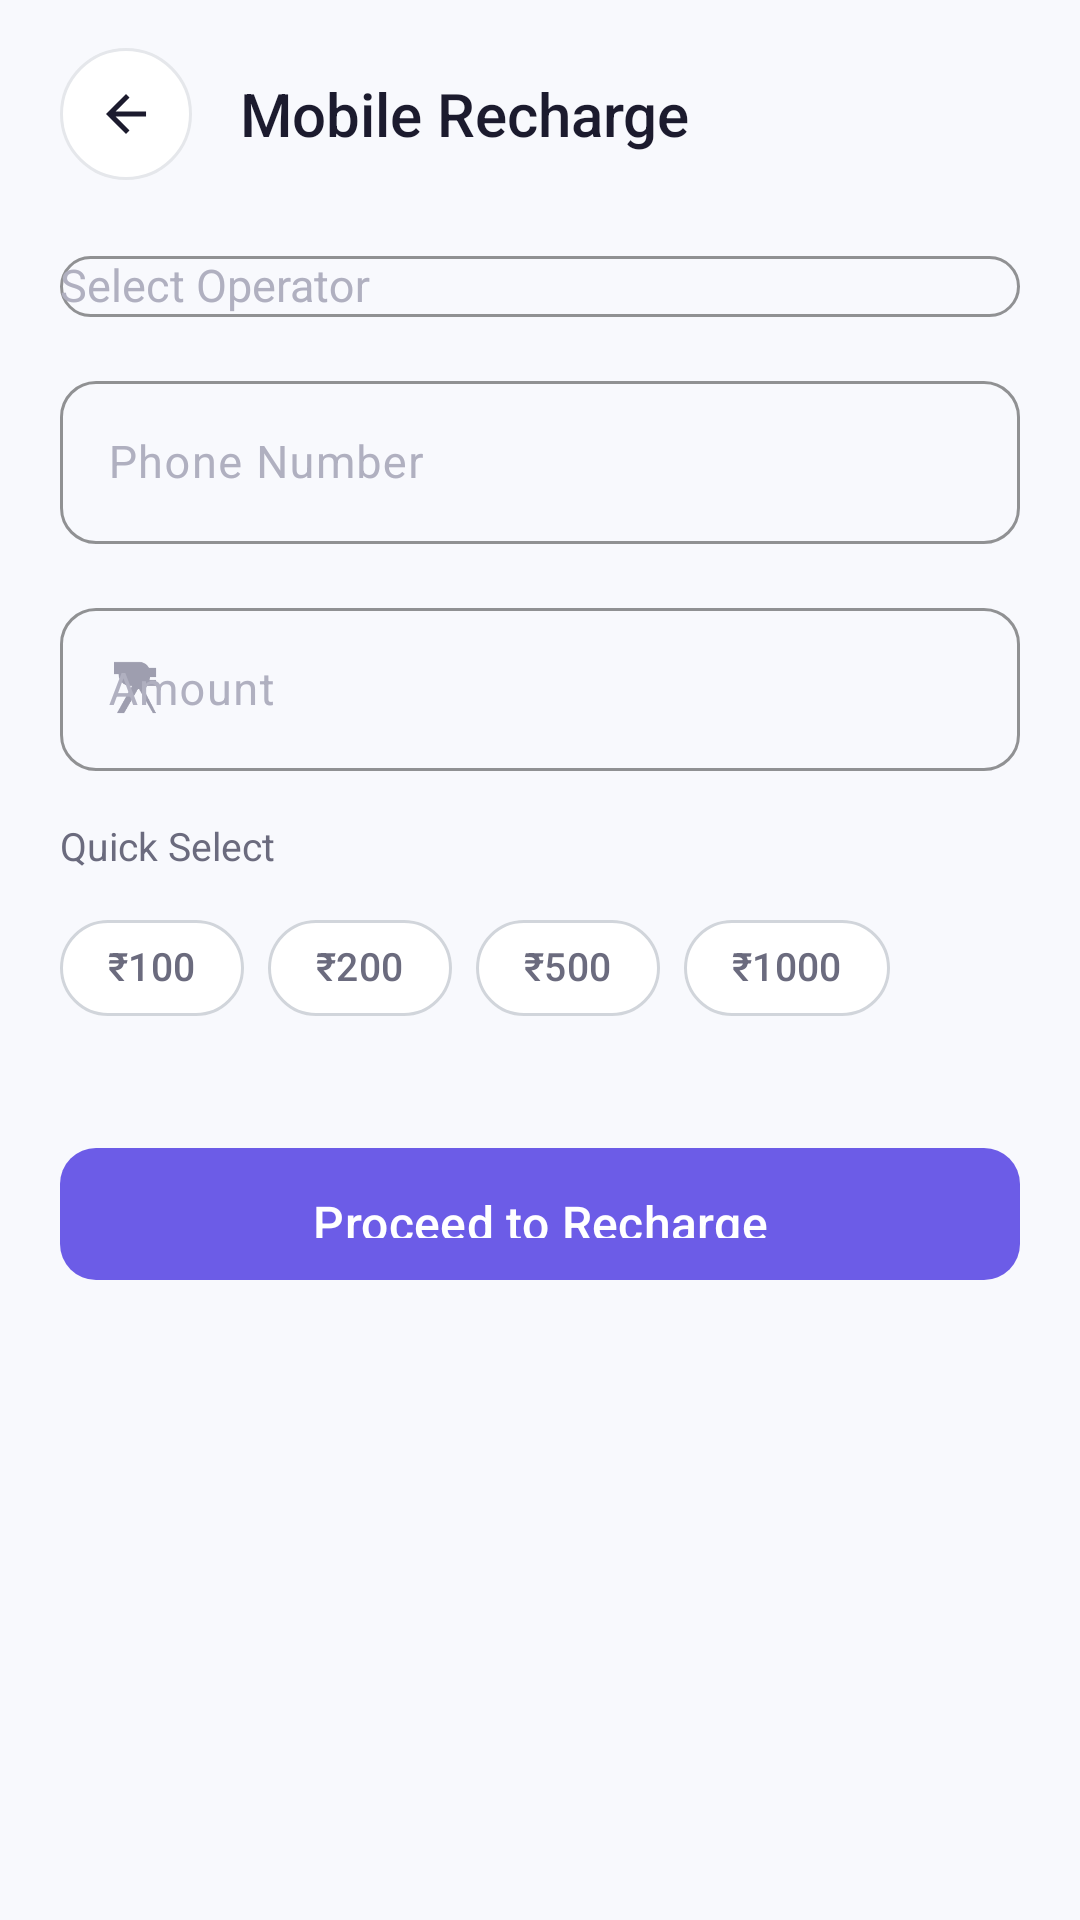

Icons on this 1080×1920 Android screen, each with the point to tap as (x,y):
arrow back: (126,114)
